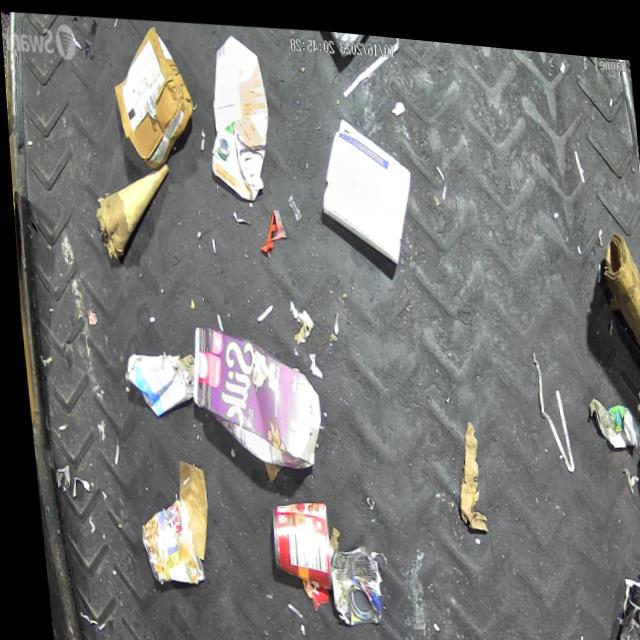can: (261, 489, 328, 586), (130, 491, 198, 584), (319, 533, 378, 623), (633, 396, 640, 483)
non_white_jug: (182, 318, 320, 472), (196, 24, 274, 197)
